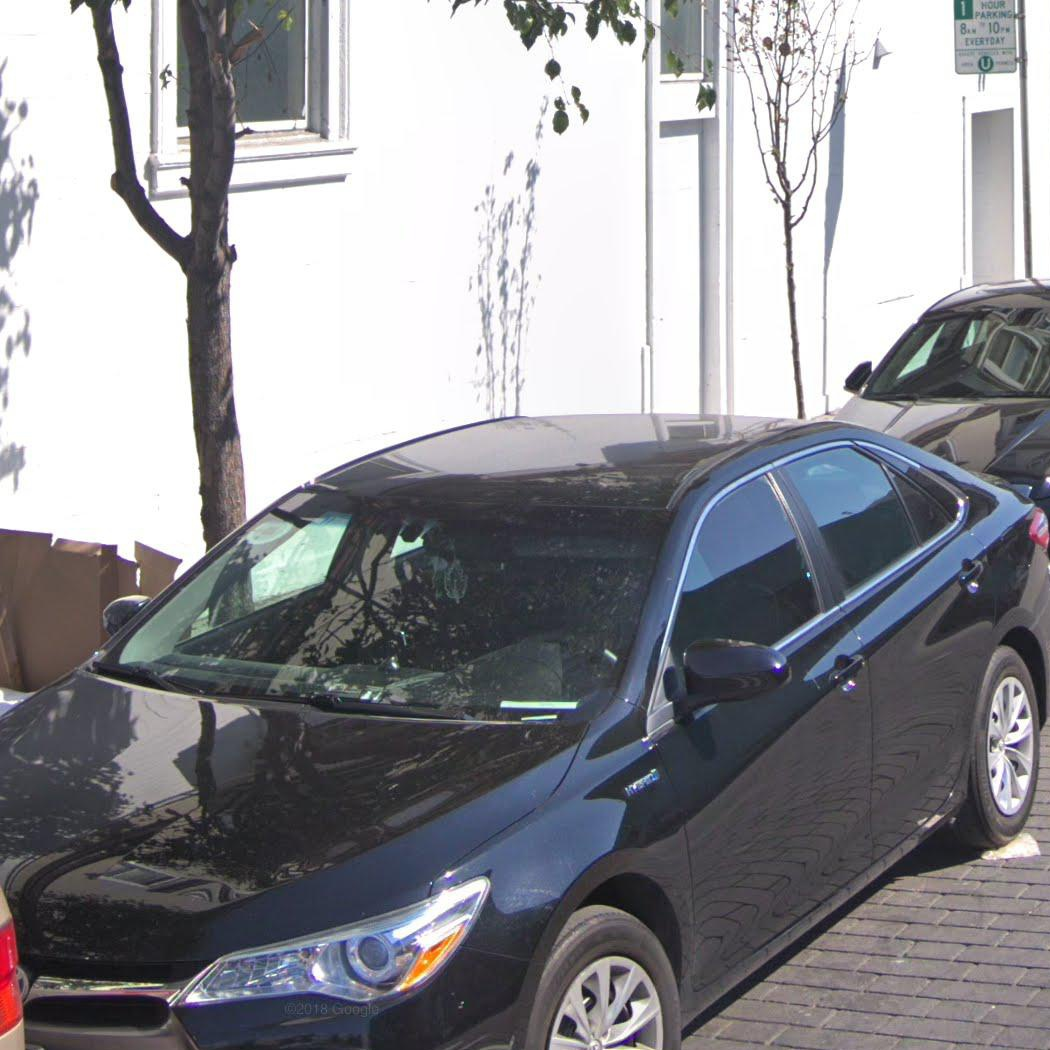1 Hour Parking: (952, 0, 1017, 75)
